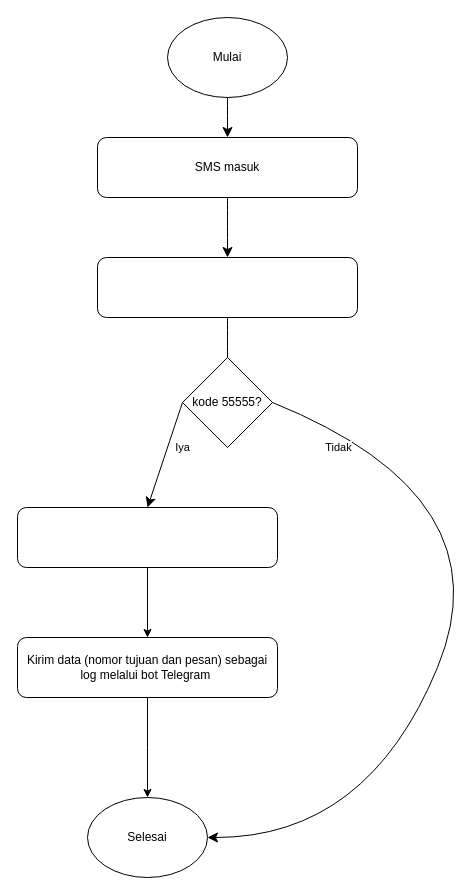
Image size: 472x895. Some labels were removed from this diagram. The shapes that lost their labels are listed below. From the top down, each one's box as (x1, y1, x2, y2) in pixels, then its label:
(96, 256, 358, 318): Cek apakah SMS adalah perintah
(16, 506, 278, 568): Kirim SMS ke nomor tertentu
